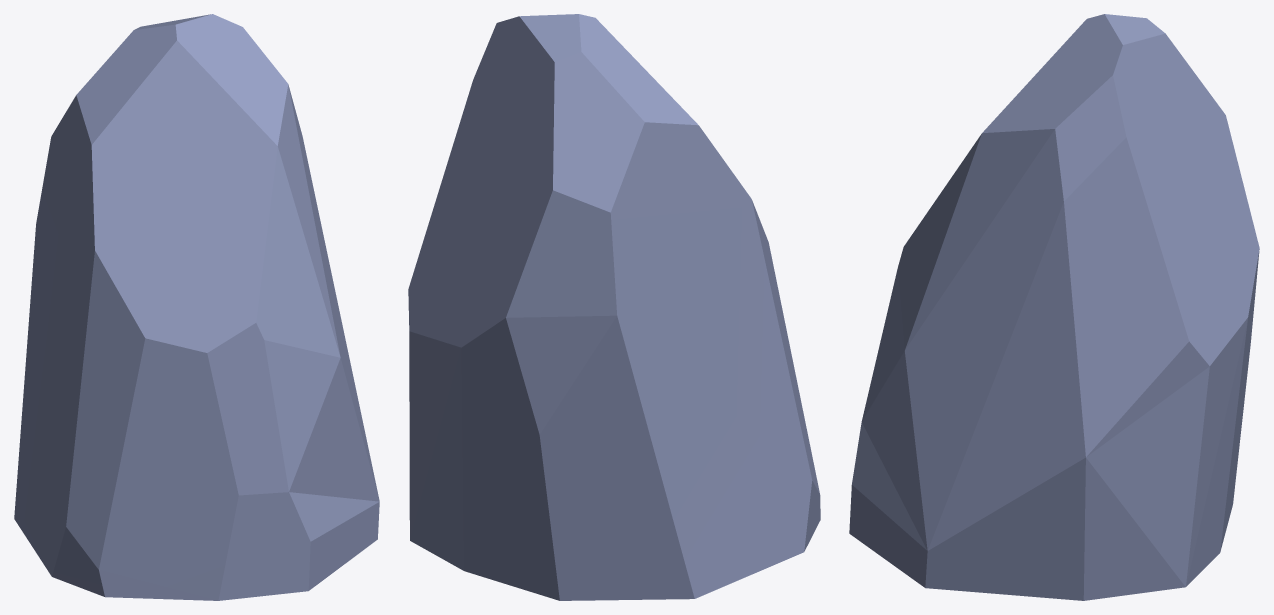
File: Rock_13.fbx
The picture shows the model from 3 angles, left to right: view 1: azimuth 30°, elevation 25°; view 2: azimuth 150°, elevation 25°; view 3: azimuth 270°, elevation 25°; orthographic projection. The views are drawn at different scales.
Visible parts, largest first — view 1: Rock_13; view 2: Rock_13; view 3: Rock_13.
Boxes of the visible parts, x1,y1,x2,y2 form: Rock_13: [14, 14, 379, 600]; Rock_13: [408, 14, 820, 600]; Rock_13: [849, 14, 1259, 600].
Bounding box in the file's own units: 1.8 × 2.61 × 1.89.
